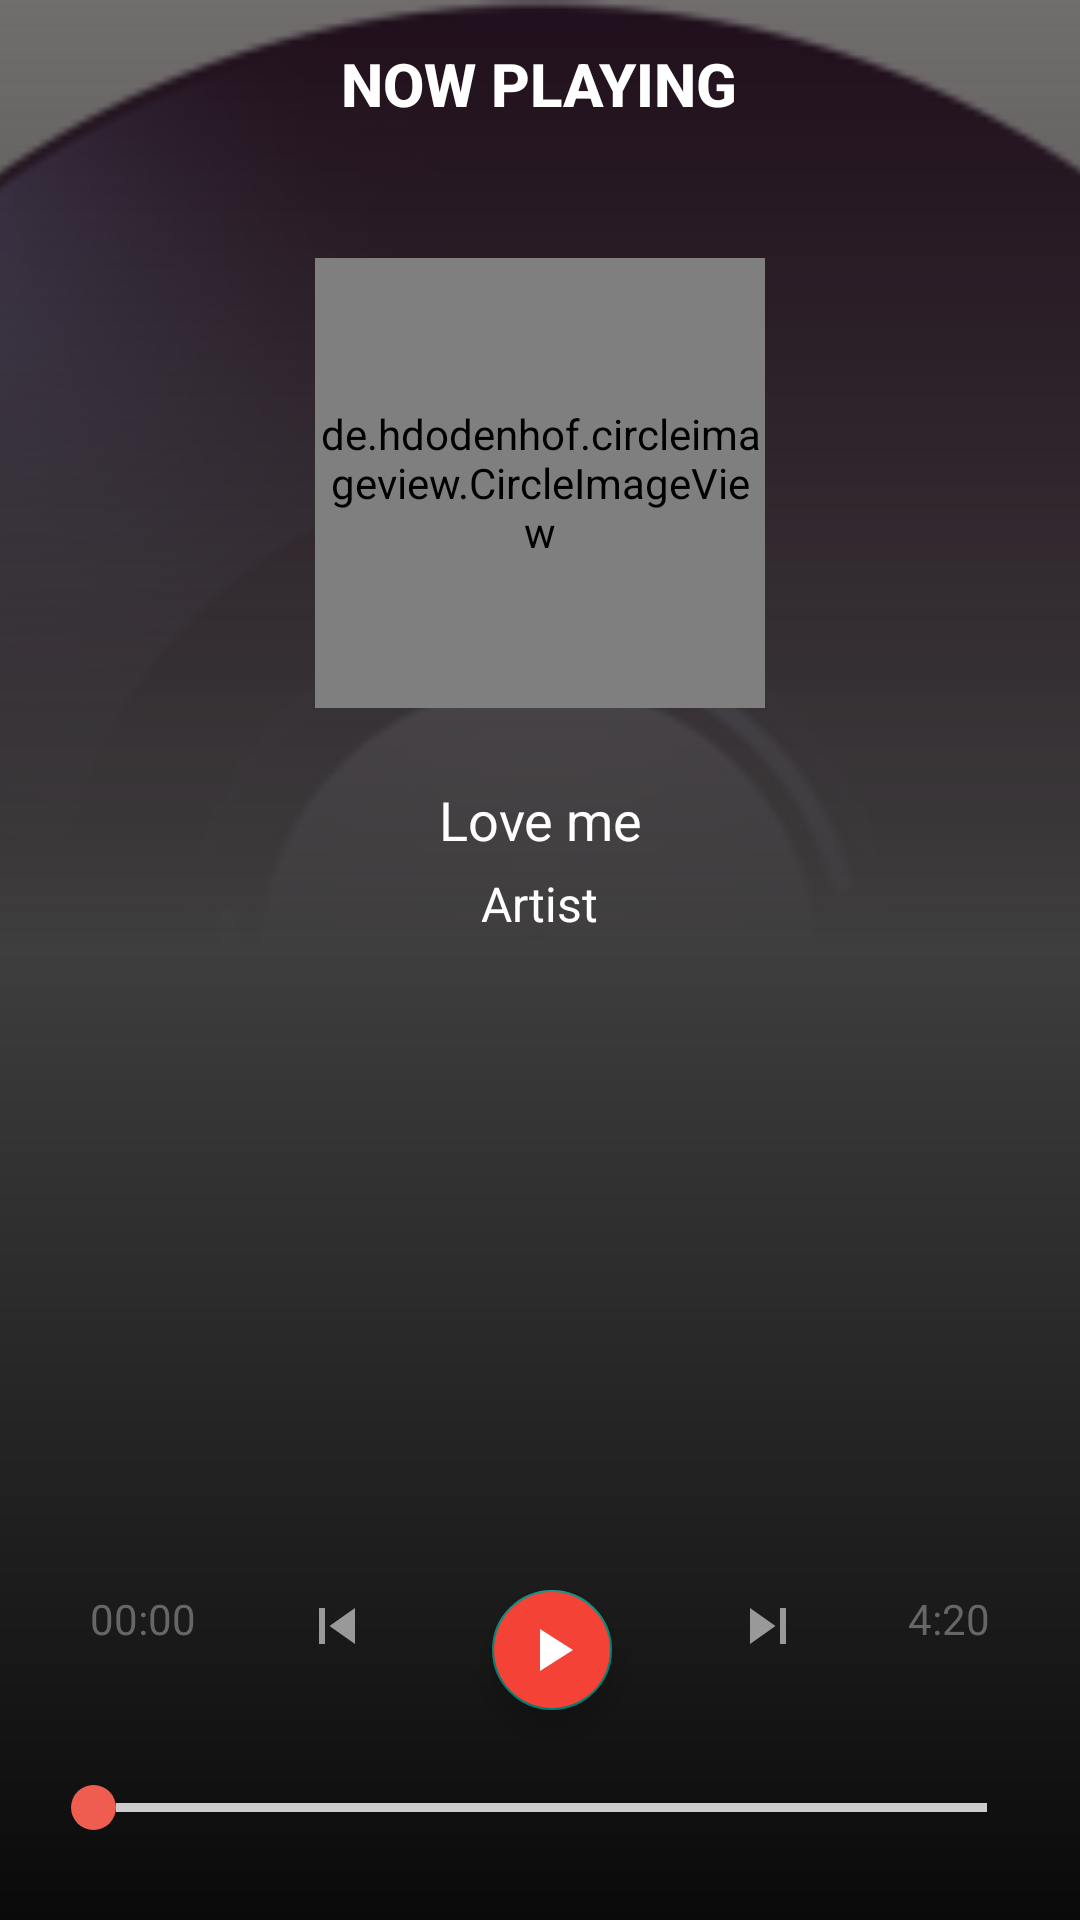

Icons on this 1080×1920 Android screen, each with the point to tap as point (x, y):
next: point (768, 1626)
play: point (552, 1650)
previous: point (337, 1626)
